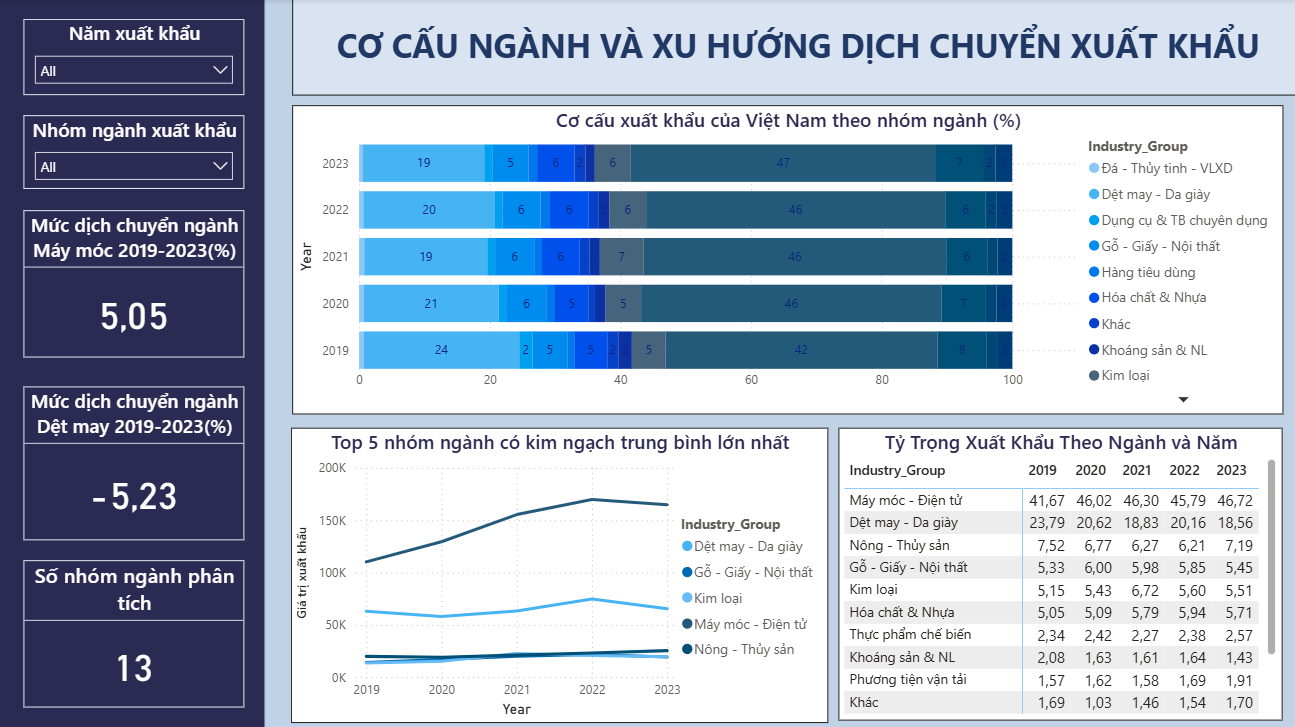

The dashboard page shown, as its layout file describes it:
{"tool":"powerbi","page":{"name":"Cơ cấu Ngành và Dịch chuyển","canvas":[1280,720],"ordinal":1},"visuals":[{"type":"shape","box":[0,0,263.3,720.3],"z":0},{"type":"slicer","title":"Nhóm ngành xuất khẩu","fields":{"Values":["f2_group_by_year.Industry_Group"]},"box":[27.2,114,215.9,72],"z":1000},{"type":"card","title":"Mức dịch chuyển ngành Máy móc 2019-2023(%)","fields":{"Values":["f2_group_by_year.Dich Chuyen May Moc"]},"box":[27.2,206.4,215.9,143.9],"z":2000},{"type":"card","title":"Mức dịch chuyển ngành Dệt may 2019-2023(%)","fields":{"Values":["f2_group_by_year.Dich Chuyen Det May"]},"box":[27.2,378.8,215.9,150.7],"z":3000},{"type":"pivotTable","title":"Tỷ Trọng Xuất Khẩu Theo Ngành và Năm","fields":{"Rows":["f2_group_by_year.Industry_Group"],"Columns":["f2_group_by_year.Year"],"Values":["Sum(f2_group_by_year.Export_Share_%)"]},"box":[824.2,419.4,434.1,286.1],"z":4000},{"type":"textbox","box":[289.8,0,990.5,94.2],"z":5000},{"type":"slicer","title":"Năm xuất khẩu ","fields":{"Values":["dim_year.Year"]},"box":[27.2,19,215.9,74.7],"z":6000},{"type":"barChart","title":"Cơ cấu xuất khẩu của Việt Nam theo nhóm ngành (%)","fields":{"Category":["f2_group_by_year.Year"],"Y":["Sum(f2_group_by_year.Export_Share_%)"],"Series":["f2_group_by_year.Industry_Group"]},"box":[289.8,103.9,969.7,302],"z":7000},{"type":"lineChart","title":"Top 5 nhóm ngành có kim ngạch trung bình lớn nhất ","fields":{"Category":["dim_year.Year"],"Series":["f2_group_by_year.Industry_Group"],"Y":["Sum(f2_group_by_year.Group_Export_M)"]},"box":[289.2,419.5,525.4,289.2],"z":8000},{"type":"card","title":"Số nhóm ngành phân tích","fields":{"Values":["Count(dim_industry.Industry_Group)"]},"box":[27.2,548.5,215.9,143.9],"z":9000}]}

Visuals, with their boxes in screenshot pixels (x1, y1, x2, y2), scaled from the page's 1280x720 canvas onto the 1295x727 screenshot:
shape: 0:0:266:726
"Nhóm ngành xuất khẩu" slicer: 28:115:246:188
"Mức dịch chuyển ngành Máy móc 2019-2023(%)" card: 28:208:246:354
"Mức dịch chuyển ngành Dệt may 2019-2023(%)" card: 28:382:246:535
"Tỷ Trọng Xuất Khẩu Theo Ngành và Năm" pivotTable: 834:423:1273:712
textbox: 293:0:1294:95
"Năm xuất khẩu " slicer: 28:19:246:95
"Cơ cấu xuất khẩu của Việt Nam theo nhóm ngành (%)" barChart: 293:105:1274:410
"Top 5 nhóm ngành có kim ngạch trung bình lớn nhất " lineChart: 293:424:824:716
"Số nhóm ngành phân tích" card: 28:554:246:699
